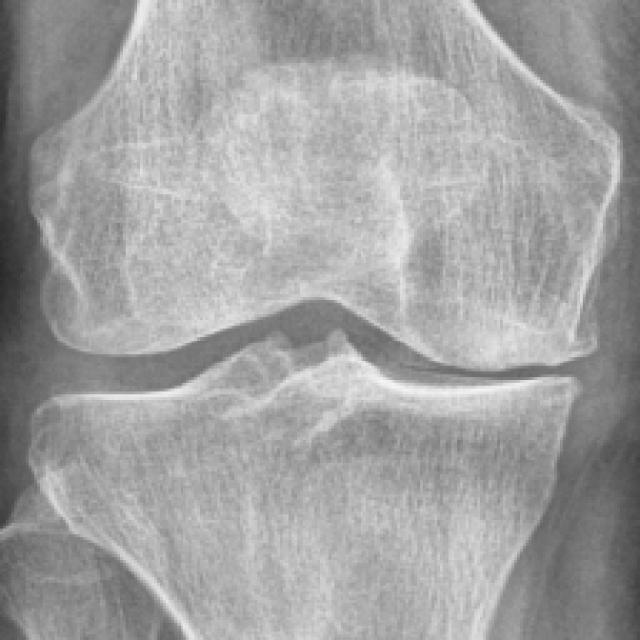femur: (22, 1, 620, 372)
tibia: (27, 331, 585, 640)
